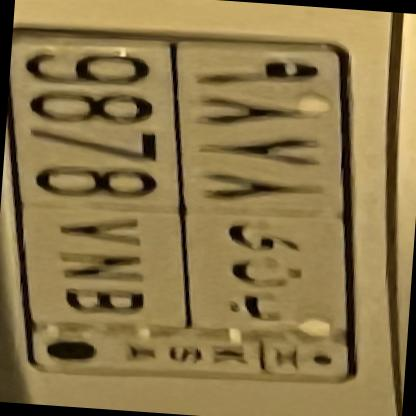english: (0, 22, 194, 337)
